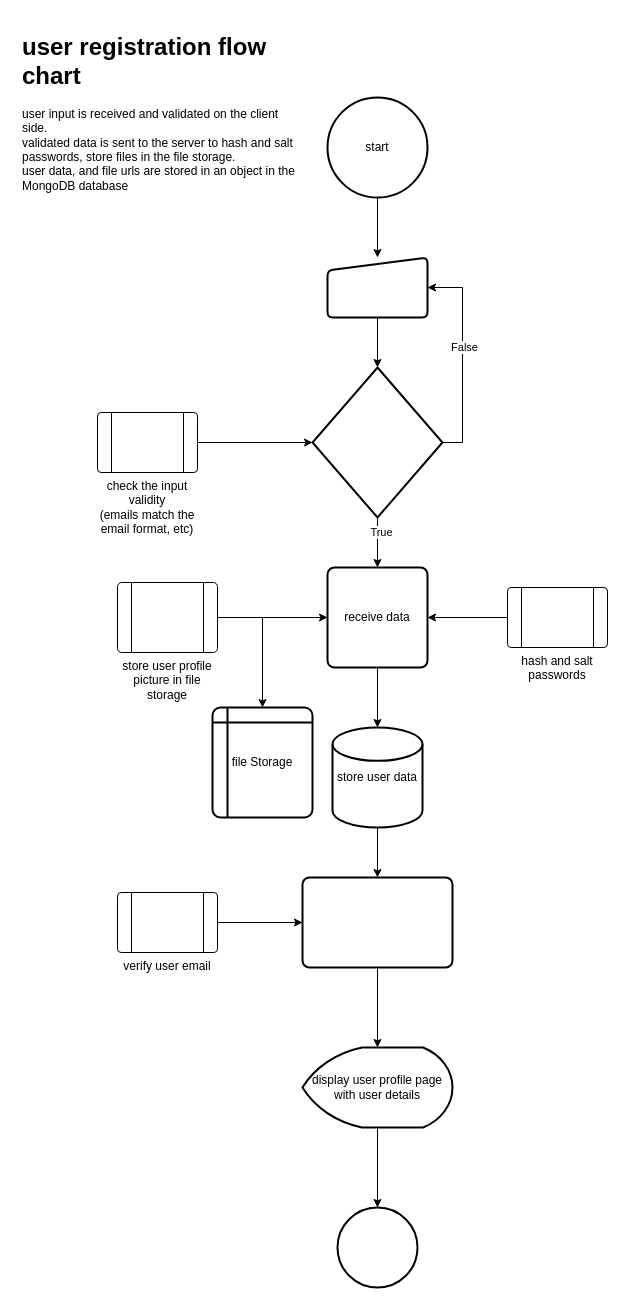
This 625x1305 diagram has some shape labels left out. Here are the shapes that lost their labels. From the top down, the centre of each, then its label:
At point 377,287: "input User Credentials".
At point 377,442: "check return value of checkInput function".
At point 377,922: "authenticate user an log user in JWT".
At point 377,1247: "end".
